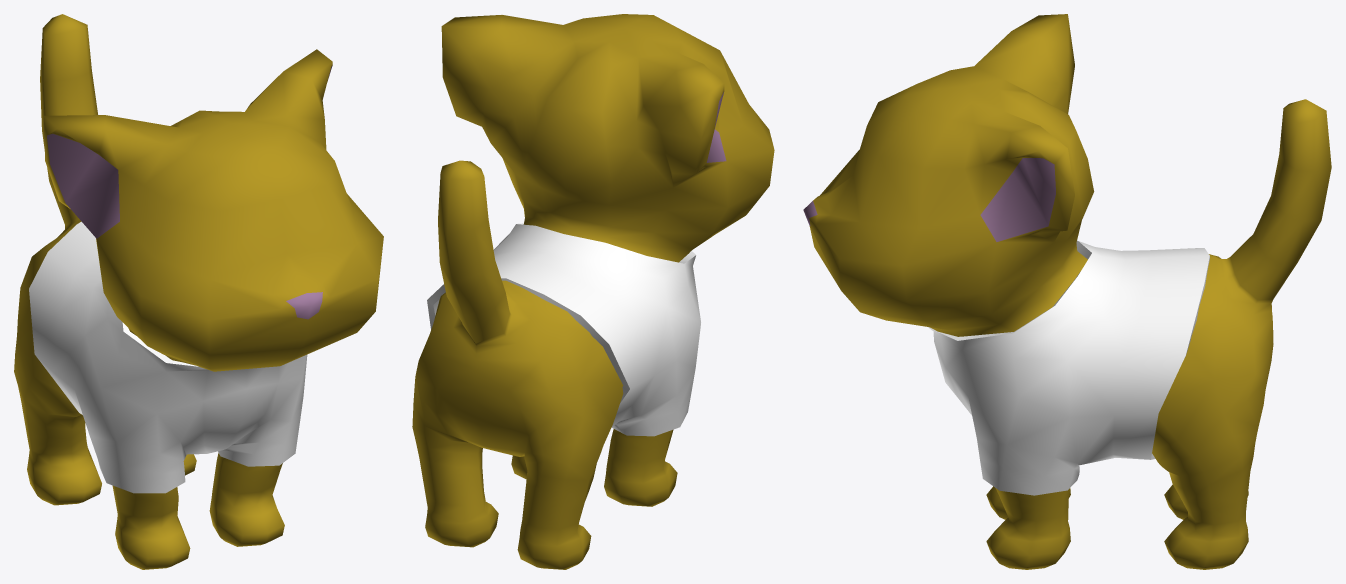
File: Leader Cat.fbx
3 renders of one model, left to right at view 1: azimuth 30°, elevation 25°; view 2: azimuth 150°, elevation 25°; view 3: azimuth 270°, elevation 25°, orthographic. The views are drawn at different scales.
Visible parts, largest first — view 1: Cat_Base, tshirt001; view 2: Cat_Base, tshirt001; view 3: Cat_Base, tshirt001.
Boxes of the visible parts, left/top/right/bottom form: Cat_Base: left=14, top=14, right=383, bottom=569; tshirt001: left=29, top=221, right=307, bottom=493; Cat_Base: left=412, top=14, right=774, bottom=569; tshirt001: left=427, top=223, right=700, bottom=436; Cat_Base: left=803, top=14, right=1331, bottom=569; tshirt001: left=928, top=240, right=1209, bottom=495.
Bounding box in the file's own units: 1.75 × 2.83 × 2.68.
